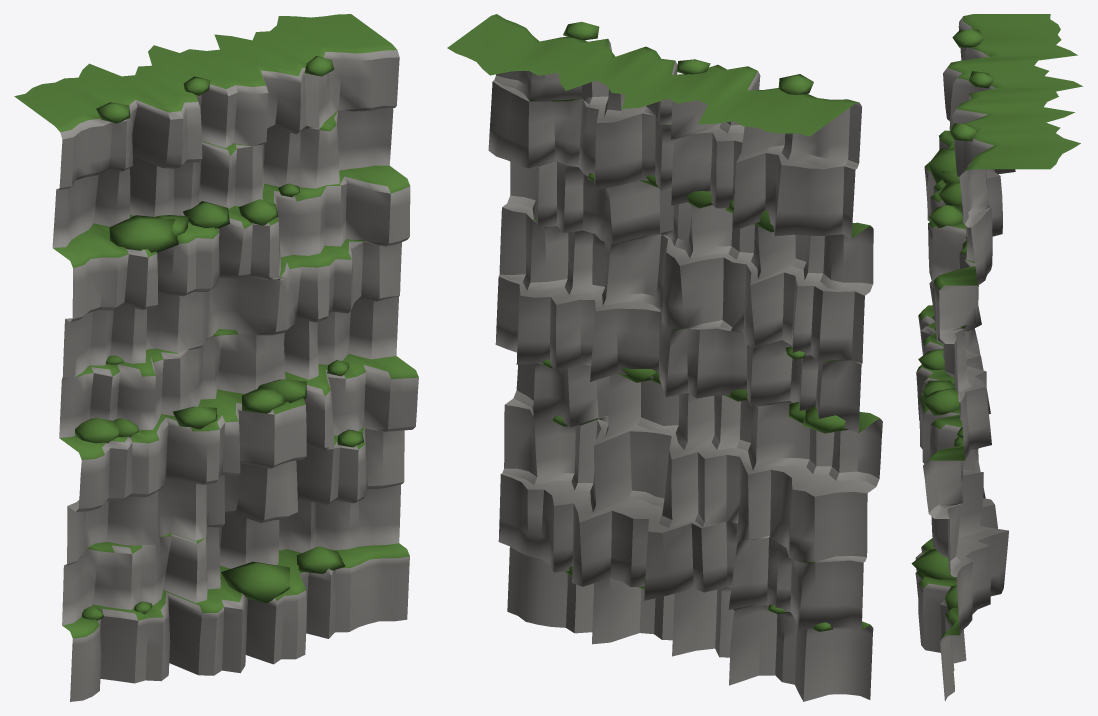
File: cliff_straight_60.glb
The picture shows the model from 3 angles, left to right: view 1: azimuth 30°, elevation 25°; view 2: azimuth 150°, elevation 25°; view 3: azimuth 270°, elevation 25°; orthographic projection. The views are drawn at different scales.
Parts seen in each view (by area): view 1: cliff_straight_60; view 2: cliff_straight_60; view 3: cliff_straight_60.
Boxes of the visible parts, x1,y1,x2,y2 form: cliff_straight_60: [14, 14, 418, 701]; cliff_straight_60: [447, 14, 882, 701]; cliff_straight_60: [911, 14, 1082, 701].
Size of the model in its own units: 40 by 65.2 by 18.73.
